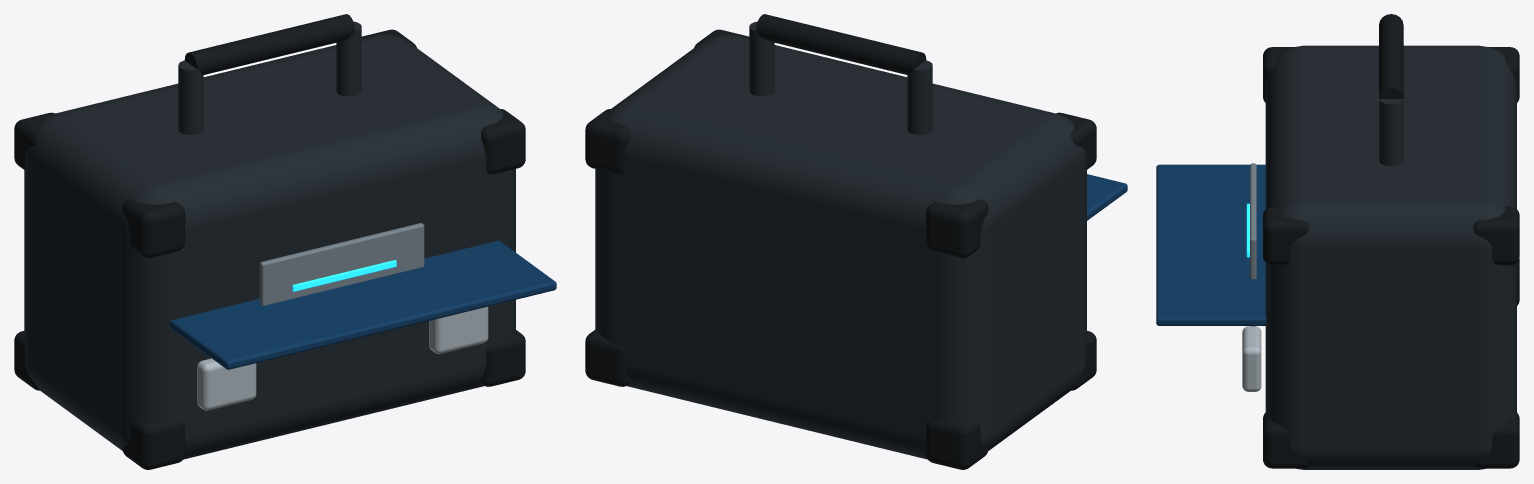
Rendered from other-equipment.glb.
3 views of the same model, side by side, from view 1: azimuth 30°, elevation 25°; view 2: azimuth 150°, elevation 25°; view 3: azimuth 270°, elevation 25° (orthographic). The views are drawn at different scales.
Parts seen in each view (by area): view 1: Rugged equipment case, Case front panel, Reinforced corner (×6), Premium universal equipment transit case, Asset identification plate, Case latch (×2), Identification line; view 2: Rugged equipment case, Reinforced corner (×6), Premium universal equipment transit case, Case front panel; view 3: Rugged equipment case, Case front panel, Reinforced corner (×6), Premium universal equipment transit case, Case latch, Asset identification plate.
Boxes of the visible parts, bbox=[...] form: Rugged equipment case: bbox=[24, 34, 515, 459]; Case front panel: bbox=[169, 240, 556, 369]; Reinforced corner (×6): bbox=[14, 109, 525, 469]; Premium universal equipment transit case: bbox=[178, 14, 361, 134]; Asset identification plate: bbox=[259, 223, 424, 305]; Case latch (×2): bbox=[197, 306, 488, 410]; Identification line: bbox=[292, 260, 396, 291]; Rugged equipment case: bbox=[595, 34, 1086, 459]; Reinforced corner (×6): bbox=[585, 109, 1096, 469]; Premium universal equipment transit case: bbox=[749, 14, 932, 134]; Case front panel: bbox=[1087, 174, 1127, 220]; Rugged equipment case: bbox=[1265, 45, 1516, 469]; Case front panel: bbox=[1156, 164, 1266, 325]; Reinforced corner (×6): bbox=[1263, 47, 1519, 468]; Premium universal equipment transit case: bbox=[1379, 14, 1403, 166]; Case latch: bbox=[1242, 326, 1261, 391]; Asset identification plate: bbox=[1250, 163, 1256, 326].
Bounding box in the file's own units: 1.58 × 1.38 × 1.33.
